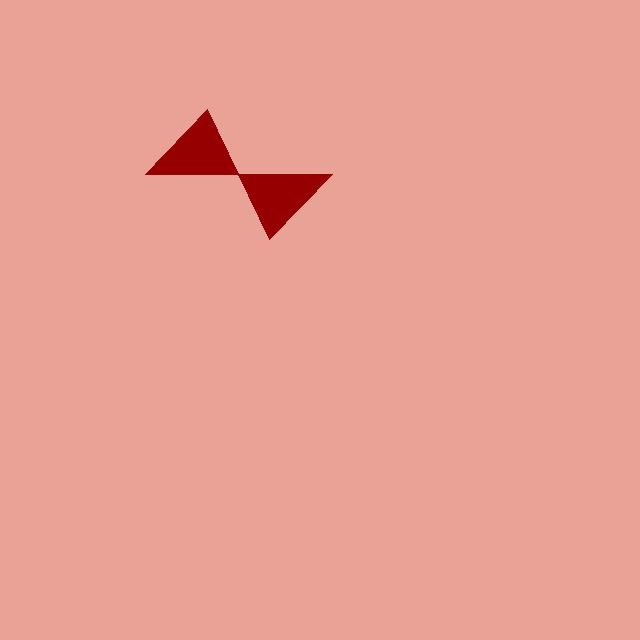laceration: (145, 109, 332, 239)
